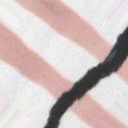crackTip: (42, 24, 128, 127)
